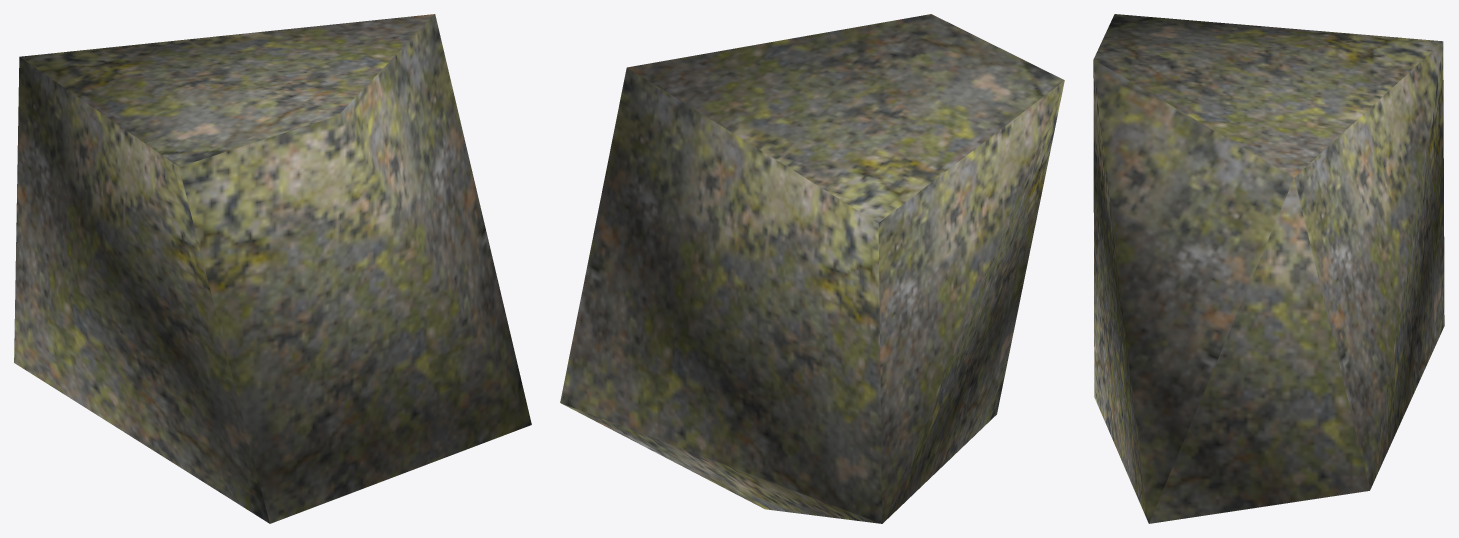
The model's file is Type2_Rock_small_1.fbx.
3 renders of one model, left to right at view 1: azimuth 30°, elevation 25°; view 2: azimuth 150°, elevation 25°; view 3: azimuth 270°, elevation 25°, orthographic. The views are drawn at different scales.
Parts seen in each view (by area): view 1: Type2_Rock_small_1; view 2: Type2_Rock_small_1; view 3: Type2_Rock_small_1.
Boxes of the visible parts, x1,y1,x2,y2 form: Type2_Rock_small_1: (14,14,531,523); Type2_Rock_small_1: (560,14,1064,523); Type2_Rock_small_1: (1093,14,1444,523).
Size of the model in its own units: 0.9063 by 0.9902 by 0.7732.
